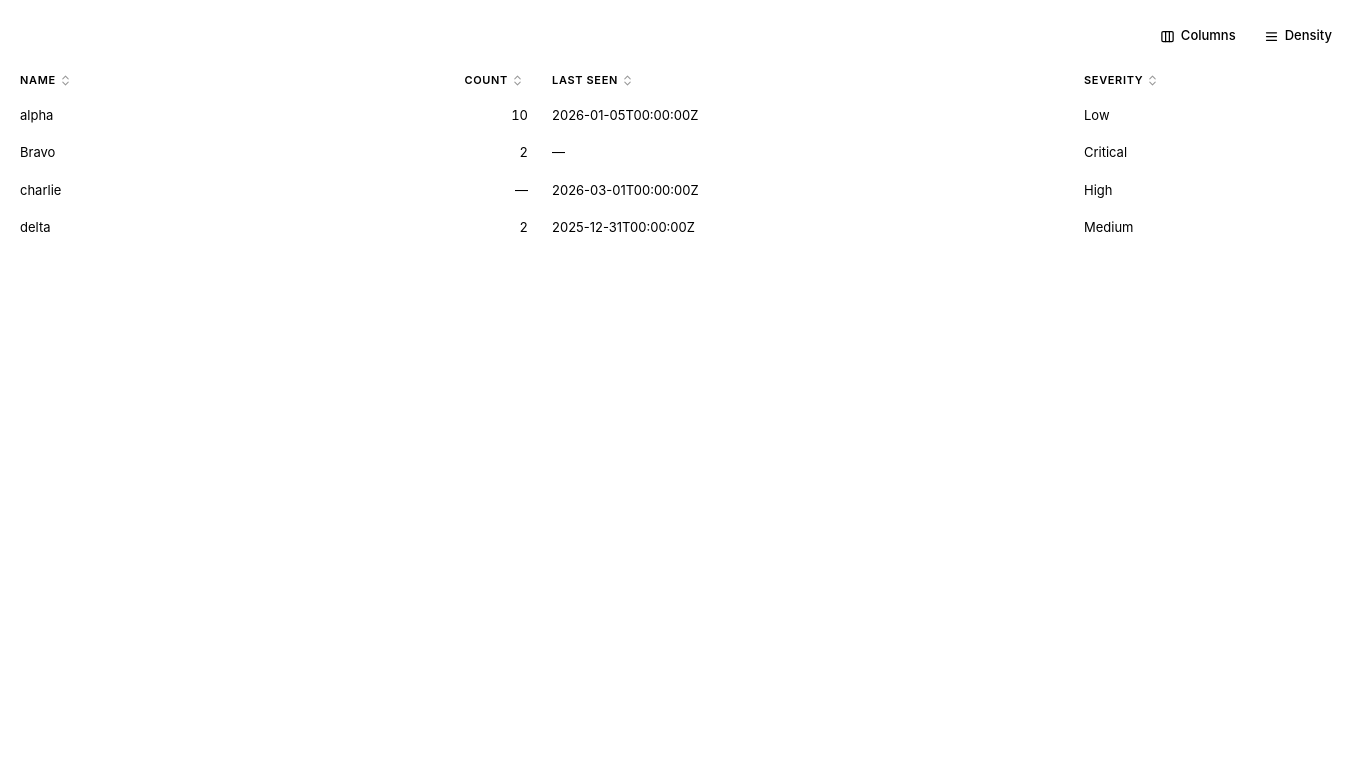
DataGrid › reorders columns from the column menu and by dragging headers
Later steps or results of the test are not shown.
What coordinates should you click on to do the following:
click the button "Columns"
I would click on:
 (1198, 36)
Its box is [1150,20,1246,52].
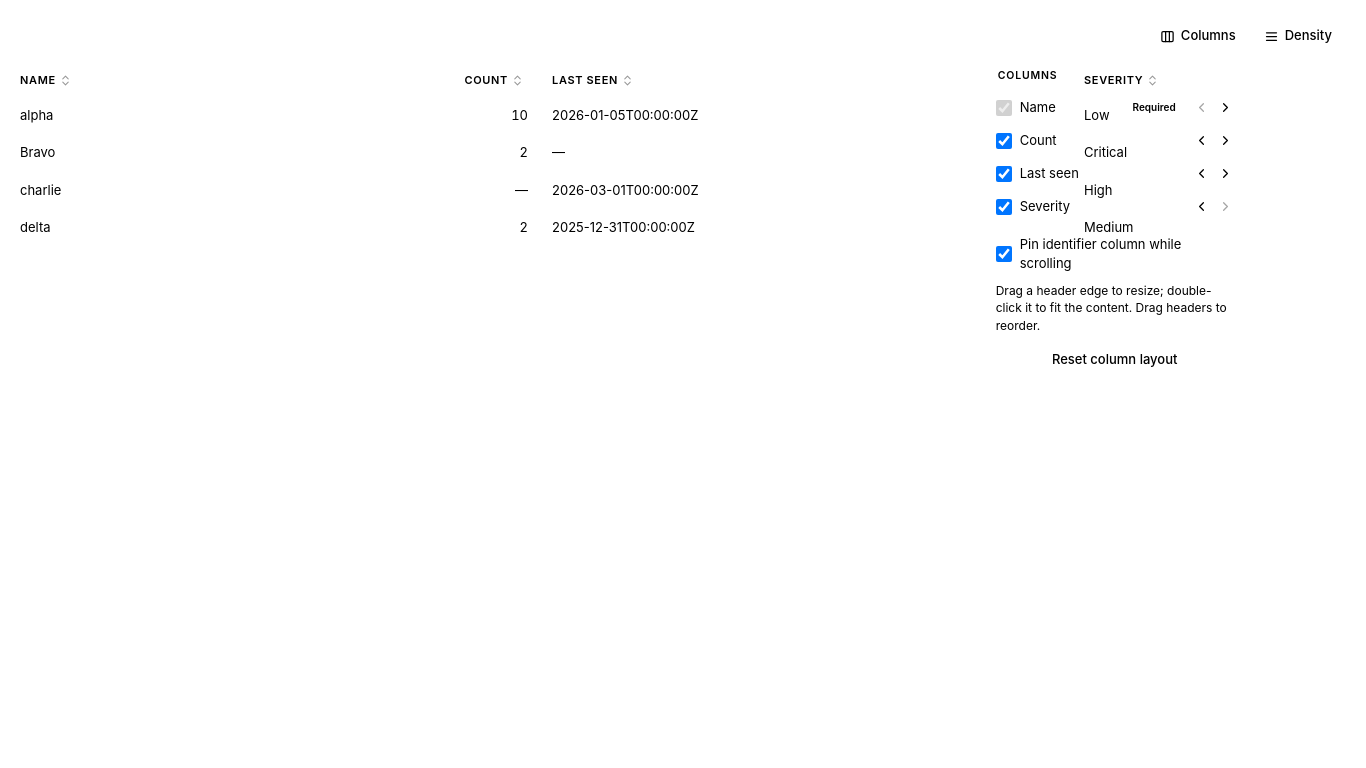
What coordinates should you click on to do the following:
click the button named "Move Severity left"
I would click on:
 (1202, 207)
Its box is [1190,195,1214,219].
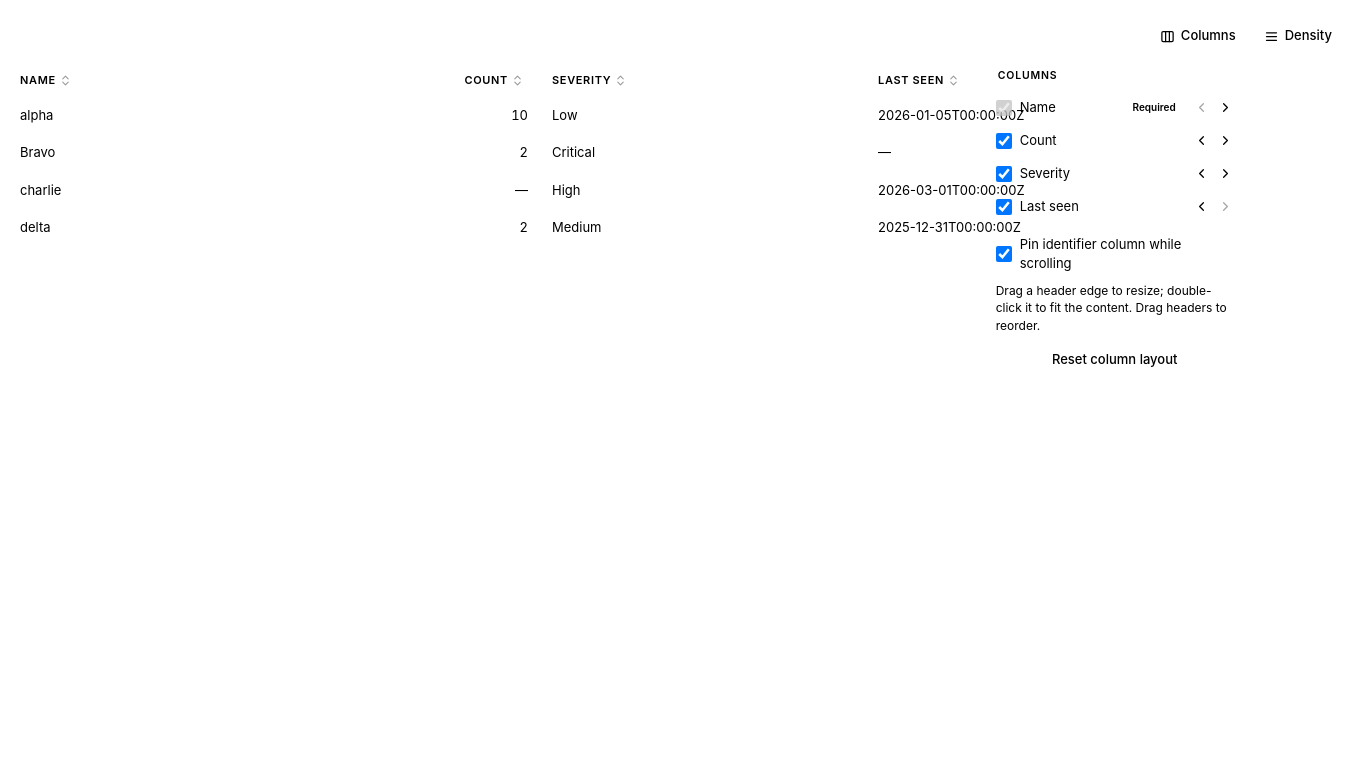
Result: the button named "Move Name left" is disabled at [1190,96,1214,120]
